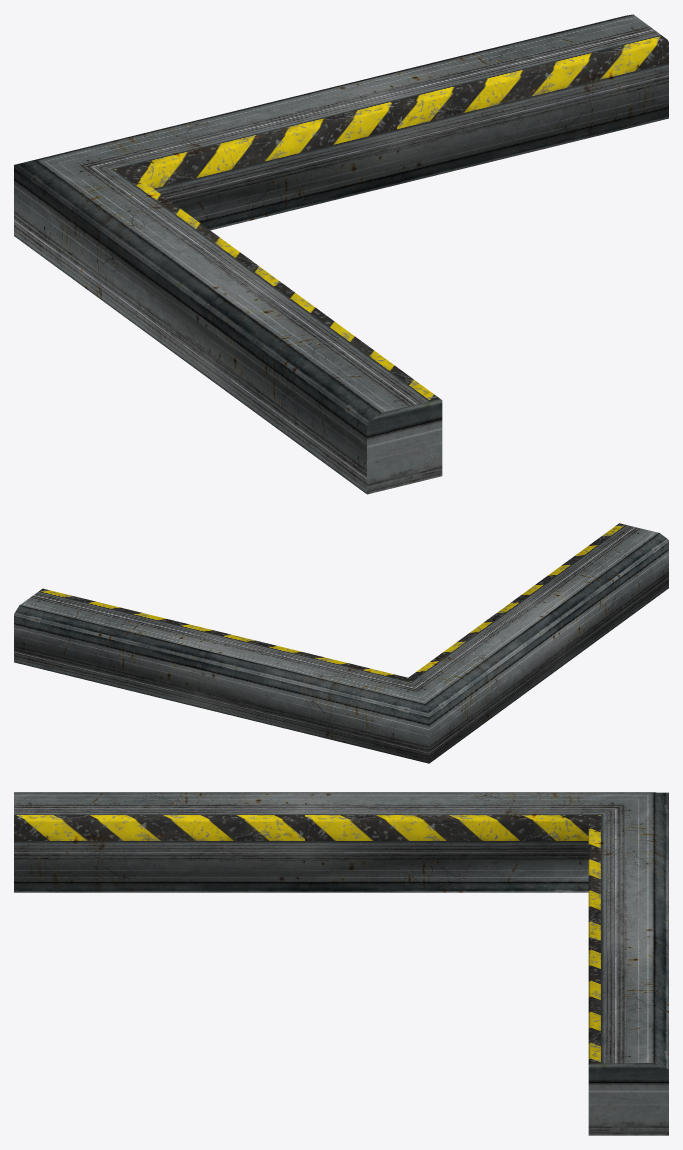
Rendered from Edges_11.fbx.
The picture shows the model from 3 angles, top to bottom: view 1: azimuth 30°, elevation 25°; view 2: azimuth 150°, elevation 25°; view 3: azimuth 270°, elevation 25°; orthographic projection. The views are drawn at different scales.
Parts seen in each view (by area): view 1: Edges_11; view 2: Edges_11; view 3: Edges_11.
Part boxes in pixels (x1,y1,x2,y2): Edges_11: (14, 14, 668, 494); Edges_11: (14, 523, 668, 763); Edges_11: (14, 792, 668, 1135).
Size of the model in its own units: 225 by 27.46 by 225.
1 material, 1 textured.
